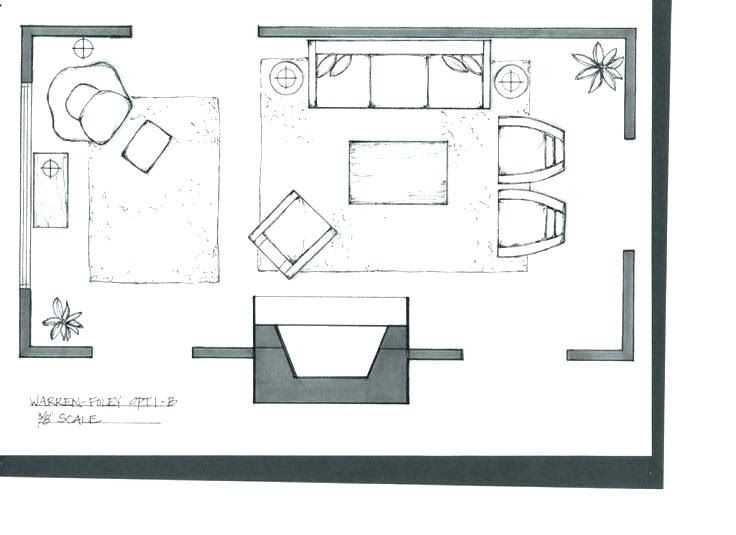room: (248, 27, 632, 362), (30, 35, 255, 348)
wall: (252, 17, 640, 53), (617, 242, 639, 362), (617, 30, 640, 143), (40, 20, 139, 46), (561, 339, 641, 366), (22, 340, 97, 365), (13, 291, 40, 355), (17, 18, 42, 86)
window: (12, 86, 47, 289)
